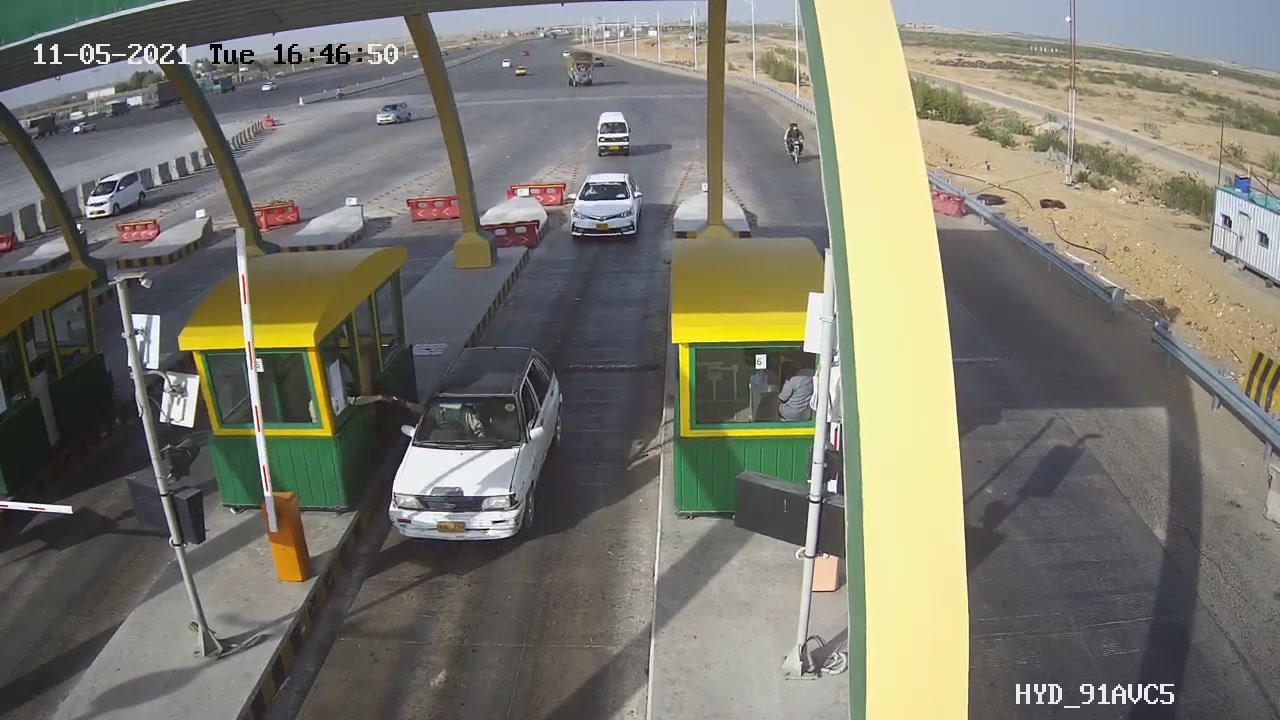F1: (375, 324, 585, 568), (550, 164, 658, 253)
